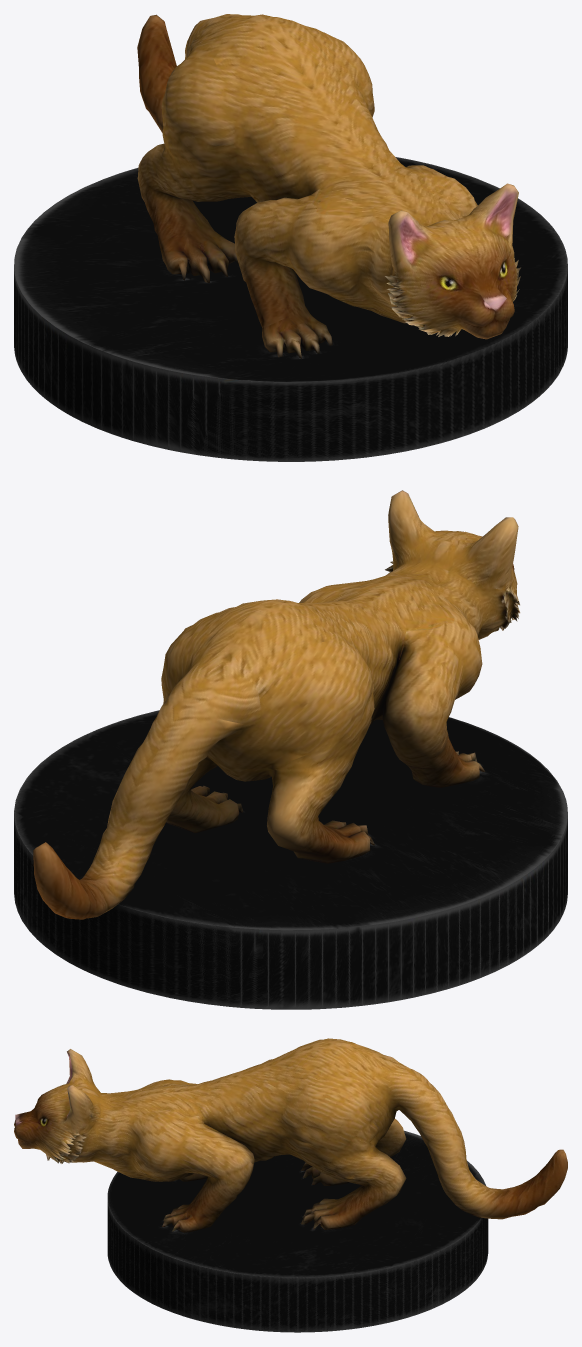
Rendered from MZ4250 - Cat (brown).glb.
3 views of the same model, one above another, from view 1: azimuth 30°, elevation 25°; view 2: azimuth 150°, elevation 25°; view 3: azimuth 270°, elevation 25° (orthographic). The views are drawn at different scales.
Visible parts, largest first — view 1: model_low.001; view 2: model_low.001; view 3: model_low.001.
Part boxes in pixels (x1,y1,x2,y2): model_low.001: (14, 14, 567, 461); model_low.001: (14, 490, 567, 1009); model_low.001: (14, 1038, 567, 1332).
Bounding box in the file's own units: 0.8558 × 0.5167 × 1.25.
1 material, 1 textured.
